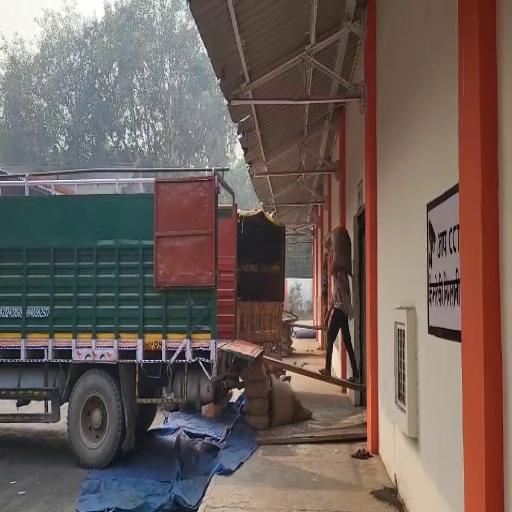bag: (326, 224, 353, 273)
